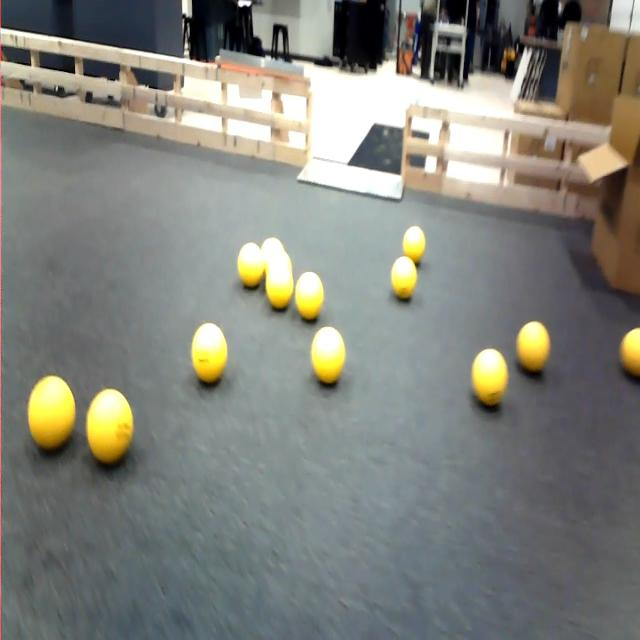fuel: (80, 368, 144, 482), (176, 295, 235, 391), (26, 364, 83, 462), (463, 338, 515, 416), (302, 316, 350, 393), (514, 309, 556, 384), (292, 258, 331, 327), (386, 249, 424, 309), (613, 312, 640, 394), (233, 233, 268, 288), (263, 257, 295, 313), (259, 221, 295, 266), (400, 217, 431, 267)
